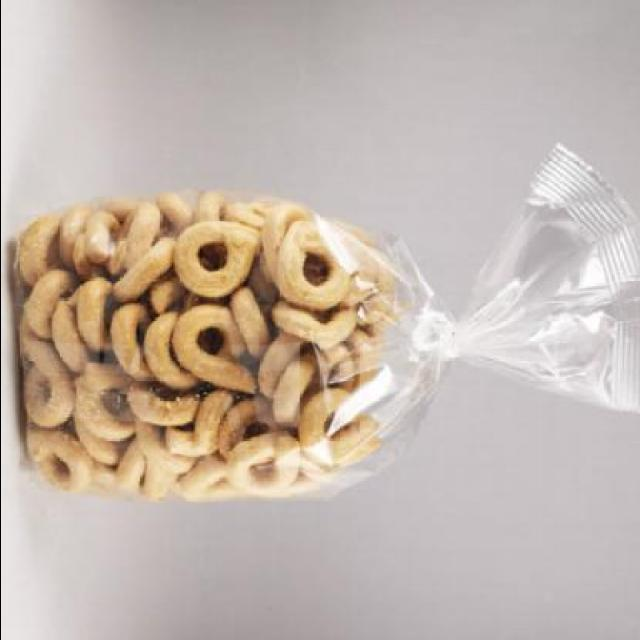Taralli: (47, 222, 278, 476)
